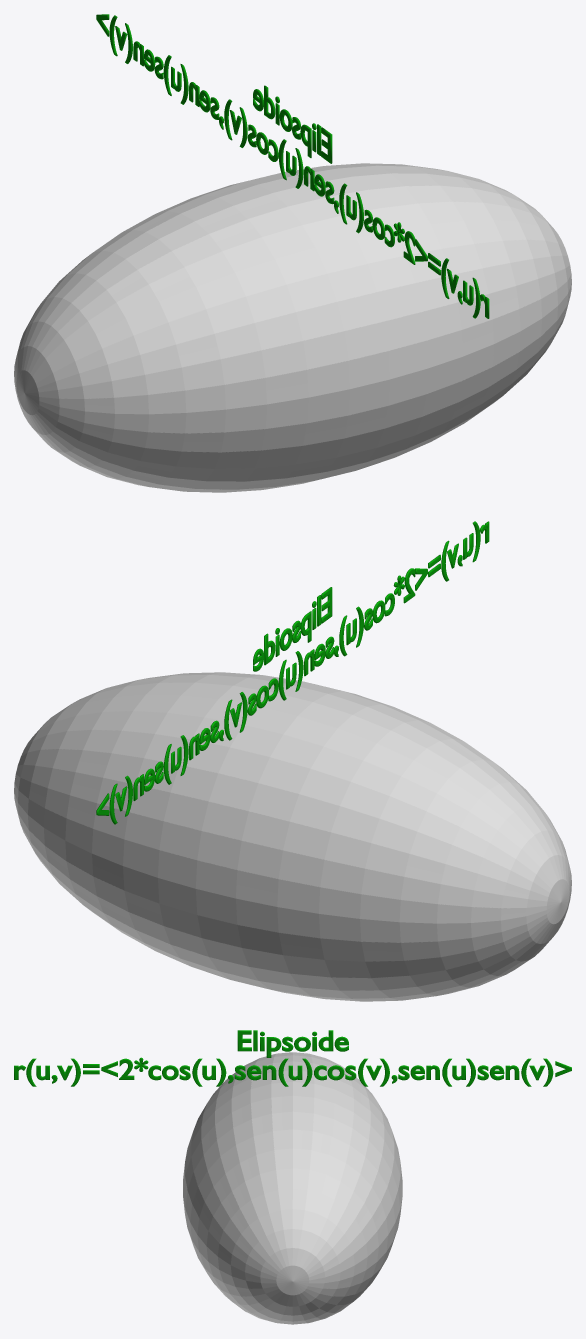
Rendered from elipsoide.fbx.
3 renders of one model, top to bottom at view 1: azimuth 30°, elevation 25°; view 2: azimuth 150°, elevation 25°; view 3: azimuth 270°, elevation 25°, orthographic. The views are drawn at different scales.
Parts seen in each view (by area): view 1: elipsiode, Texto; view 2: elipsiode, Texto; view 3: elipsiode, Texto.
Part boxes in pixels (bbox=[...]): elipsiode: bbox=[14, 163, 571, 492]; Texto: bbox=[96, 14, 489, 318]; elipsiode: bbox=[14, 672, 571, 1001]; Texto: bbox=[96, 521, 489, 824]; elipsiode: bbox=[183, 1052, 402, 1324]; Texto: bbox=[14, 1030, 571, 1086].
Bounding box in the file's own units: 400 × 258 × 506.
